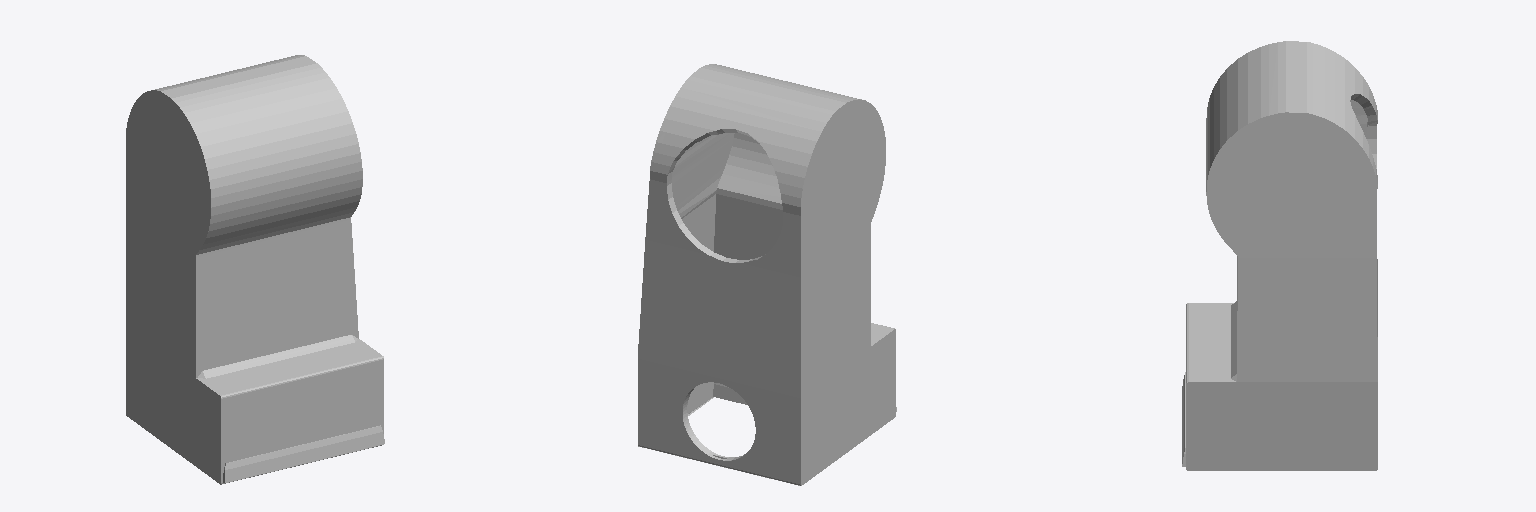
The model's file is PiernaIzq.obj.
3 views of the same model, side by side, from view 1: azimuth 30°, elevation 25°; view 2: azimuth 150°, elevation 25°; view 3: azimuth 270°, elevation 25° (orthographic).
Visible parts, largest first — view 1: PiernaIzq; view 2: PiernaIzq; view 3: PiernaIzq.
Boxes of the visible parts, <box> form: PiernaIzq: <box>126,55,384,484</box>; PiernaIzq: <box>638,64,896,485</box>; PiernaIzq: <box>1182,41,1377,470</box>.
Bounding box in the file's own units: 10.8 × 22.18 × 11.23.